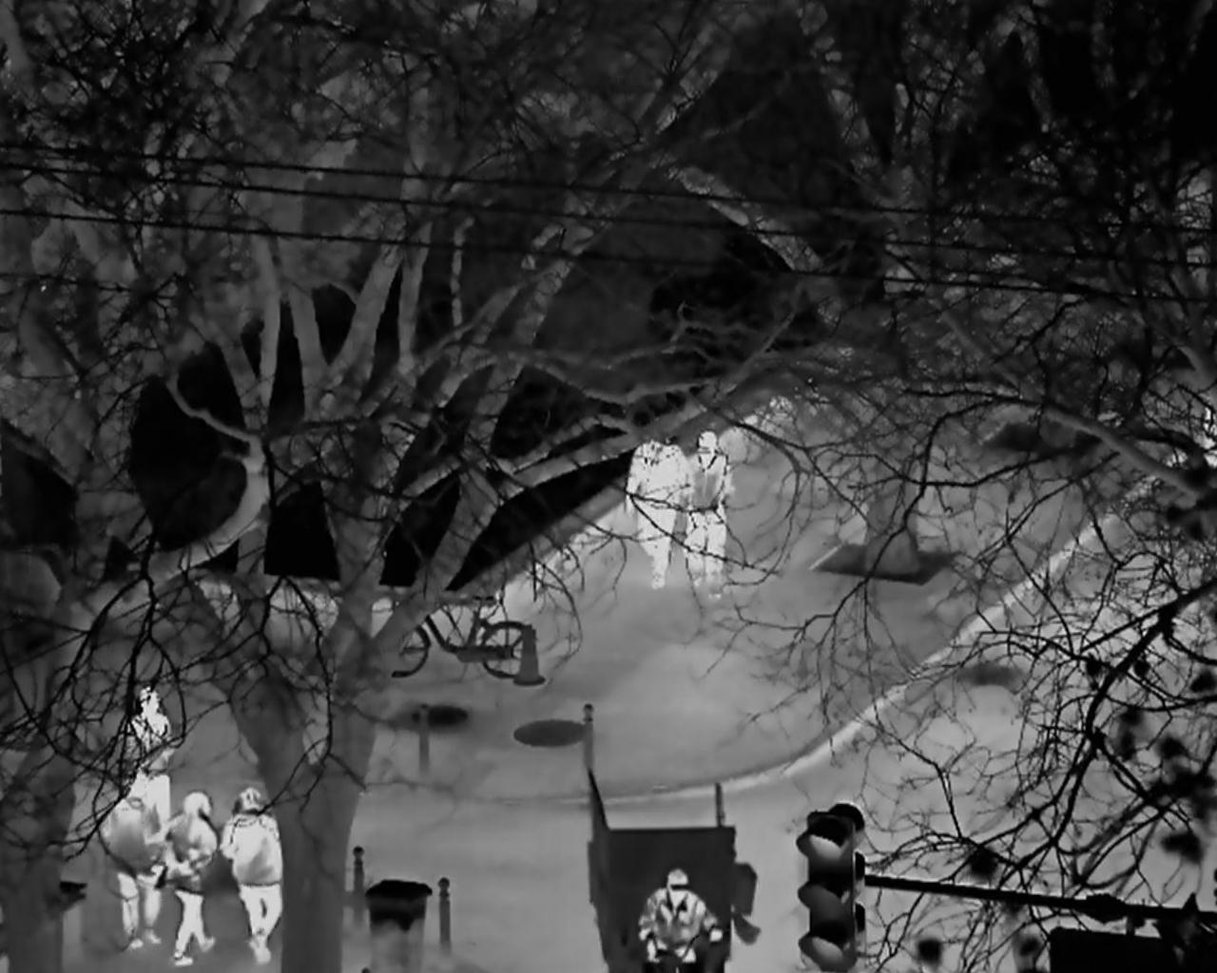person: (218, 788, 285, 965), (97, 773, 164, 949), (159, 788, 219, 969), (624, 443, 686, 589), (686, 429, 738, 601), (120, 689, 176, 774)
